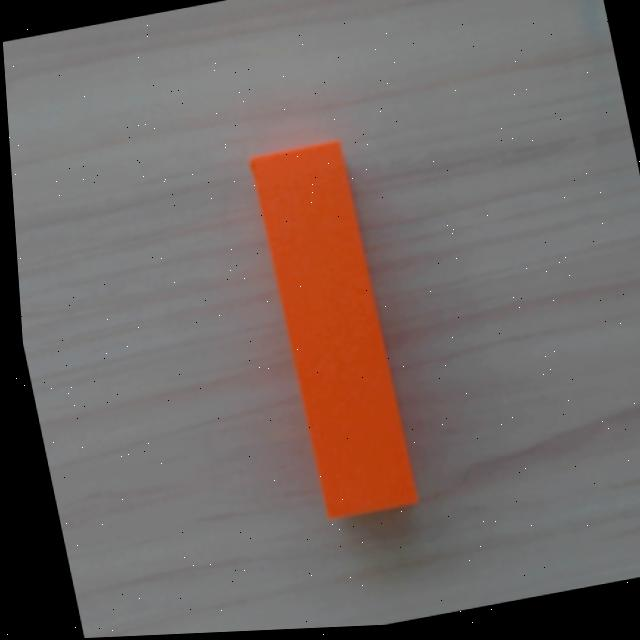Balok-Jingga-1002525: (249, 139, 418, 523)
